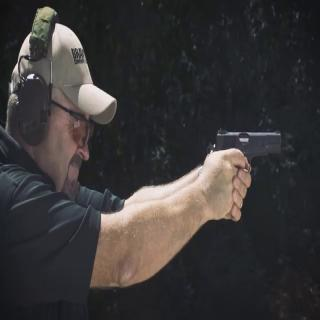gun: (204, 118, 282, 218)
